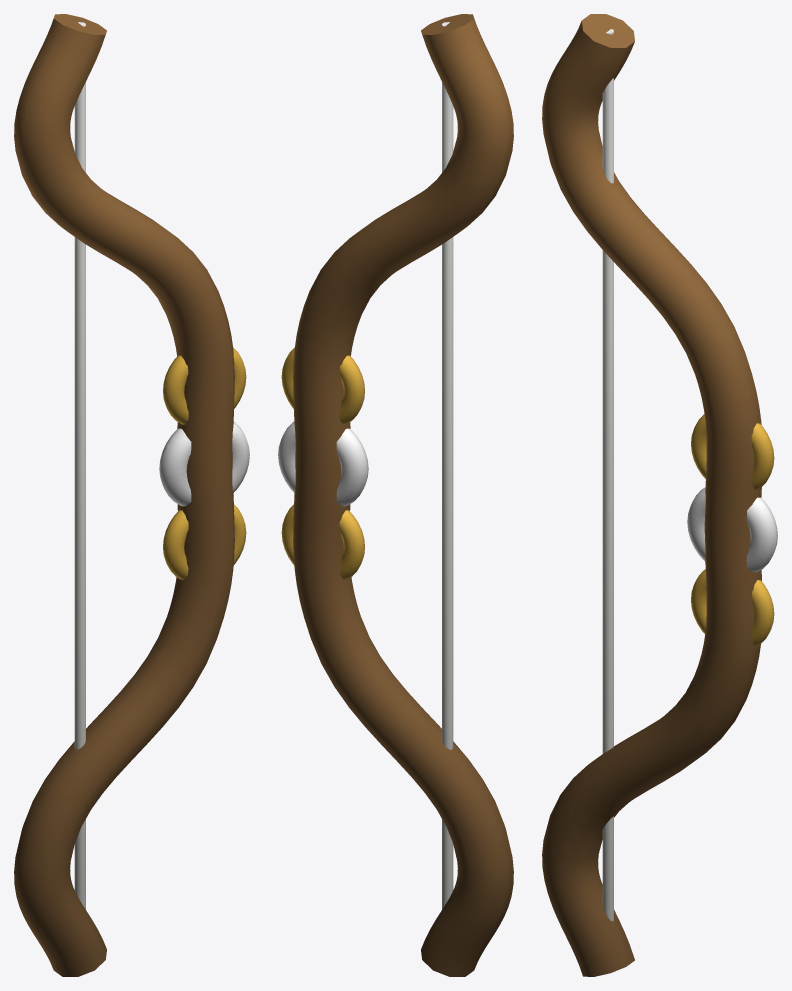
Rendered from arco_compuesto.glb.
The picture shows the model from 3 angles, left to right: view 1: azimuth 30°, elevation 25°; view 2: azimuth 150°, elevation 25°; view 3: azimuth 330°, elevation 25°; orthographic projection.
Parts seen in each view (by area): view 1: arco_compuesto_fijo; view 2: arco_compuesto_fijo; view 3: arco_compuesto_fijo.
Boxes of the visible parts, bbox=[...] form: arco_compuesto_fijo: bbox=[14, 14, 249, 976]; arco_compuesto_fijo: bbox=[278, 14, 513, 976]; arco_compuesto_fijo: bbox=[542, 14, 777, 976].
Size of the model in its own units: 0.3698 by 1.47 by 0.08.
2 materials, 2 textured.
